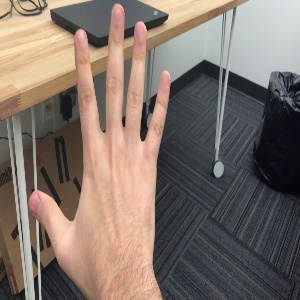hand: (29, 2, 170, 262)
